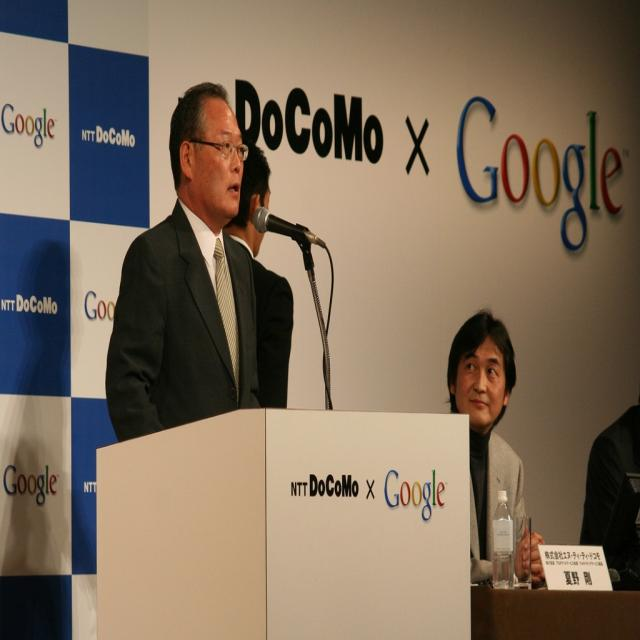google: (453, 92, 630, 259), (382, 468, 450, 523), (2, 102, 59, 152), (2, 463, 62, 508)
